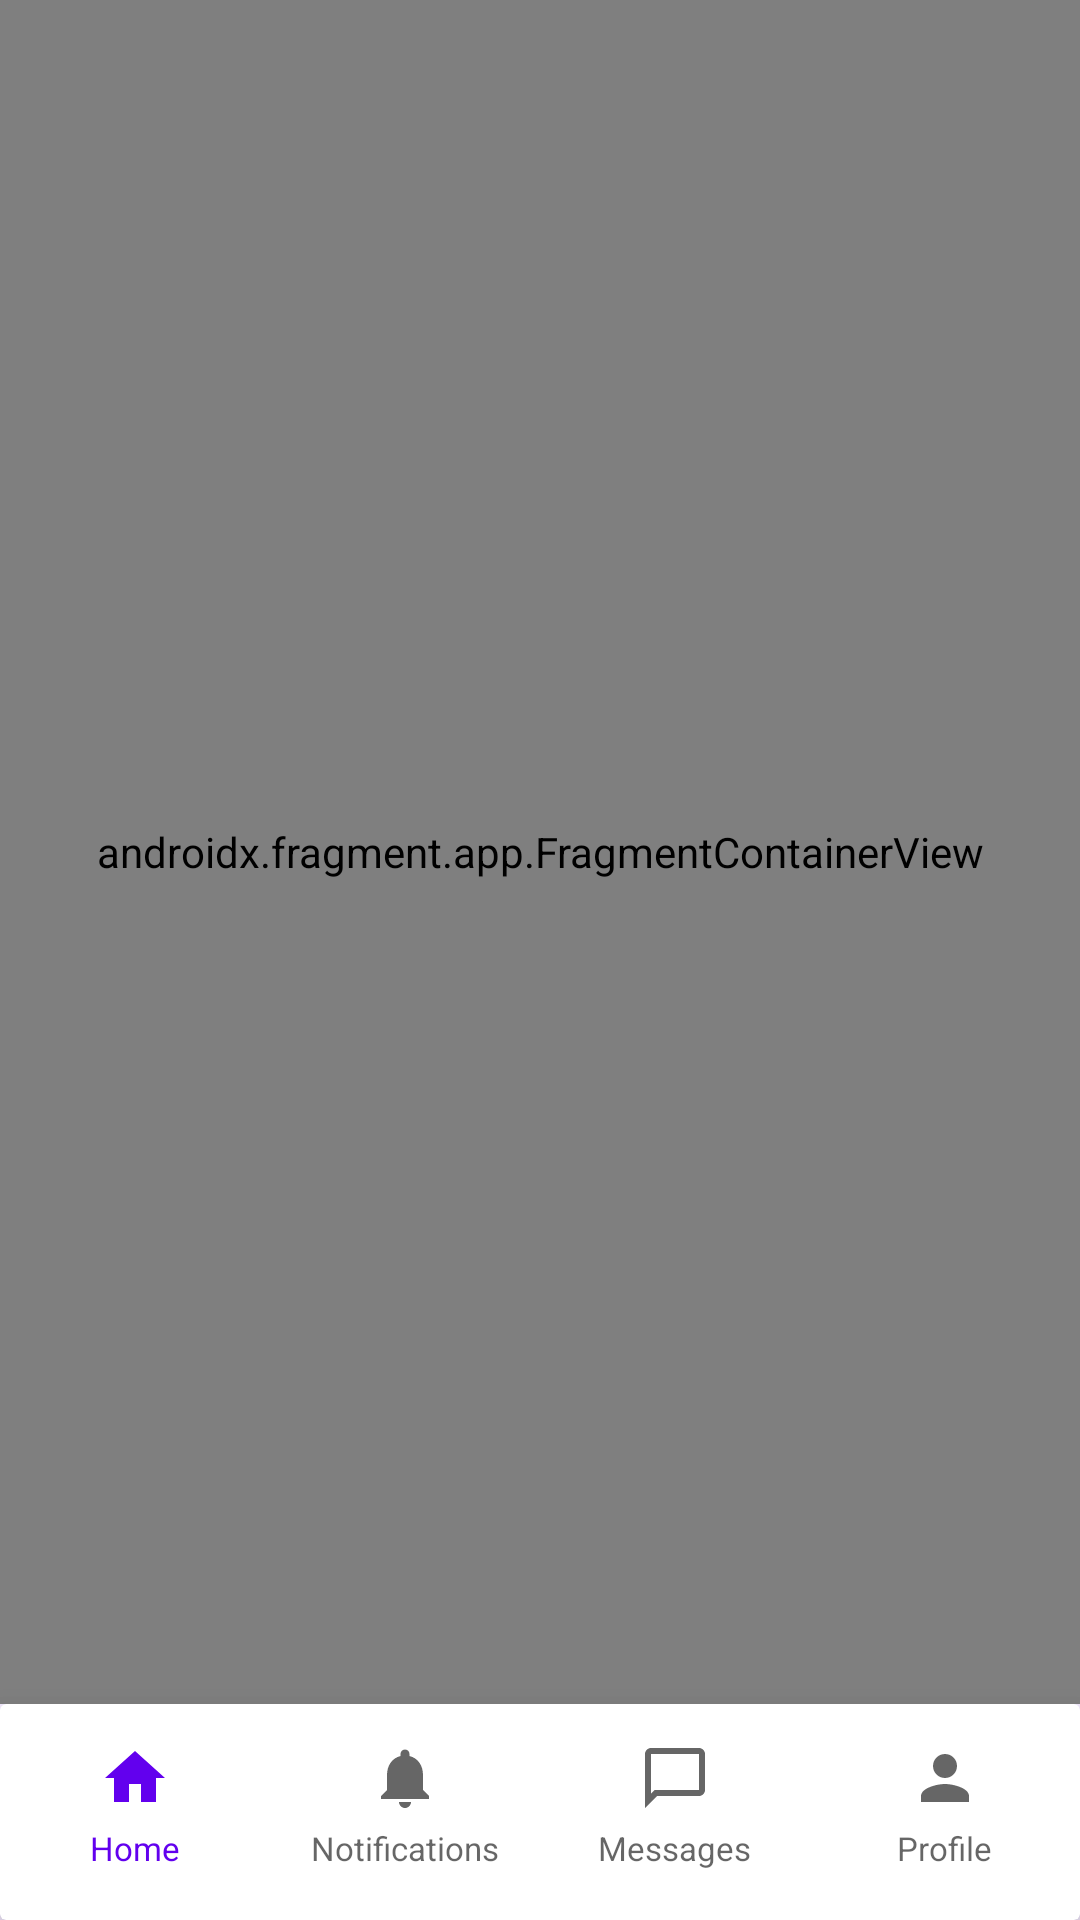

Icon bounding boxes for this 1080x1920 phone screenshot, format (x1, y1, x2, y2):
person: (921, 1754, 969, 1802)
